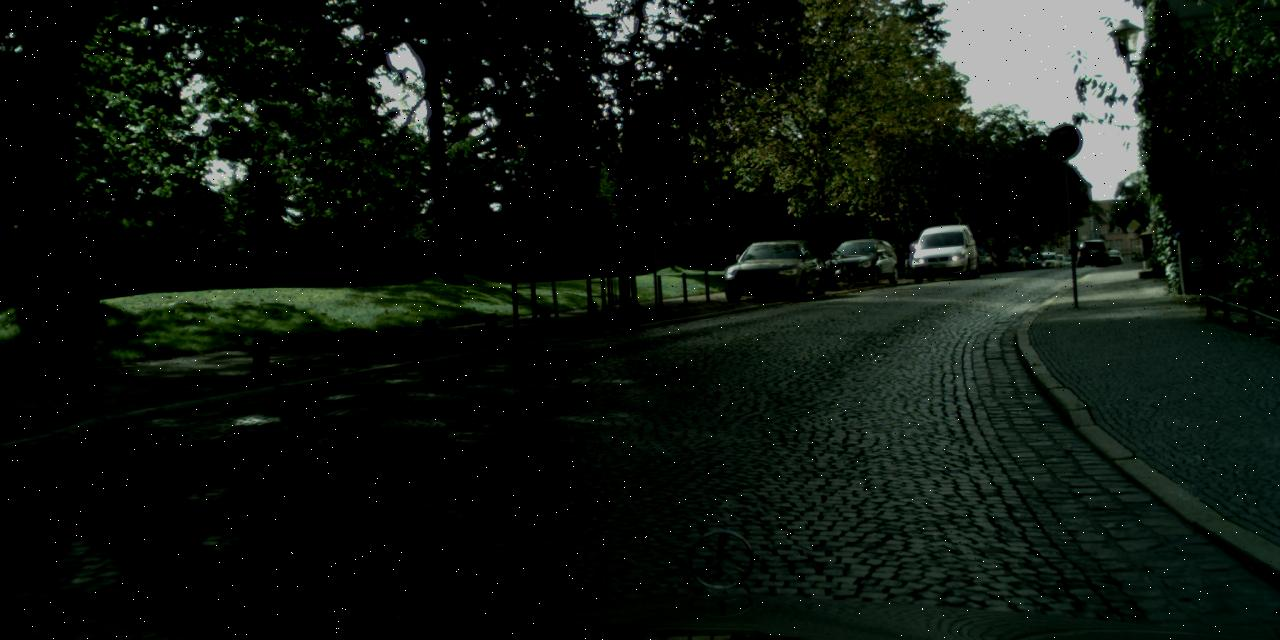ped: (1020, 241, 1030, 269)
